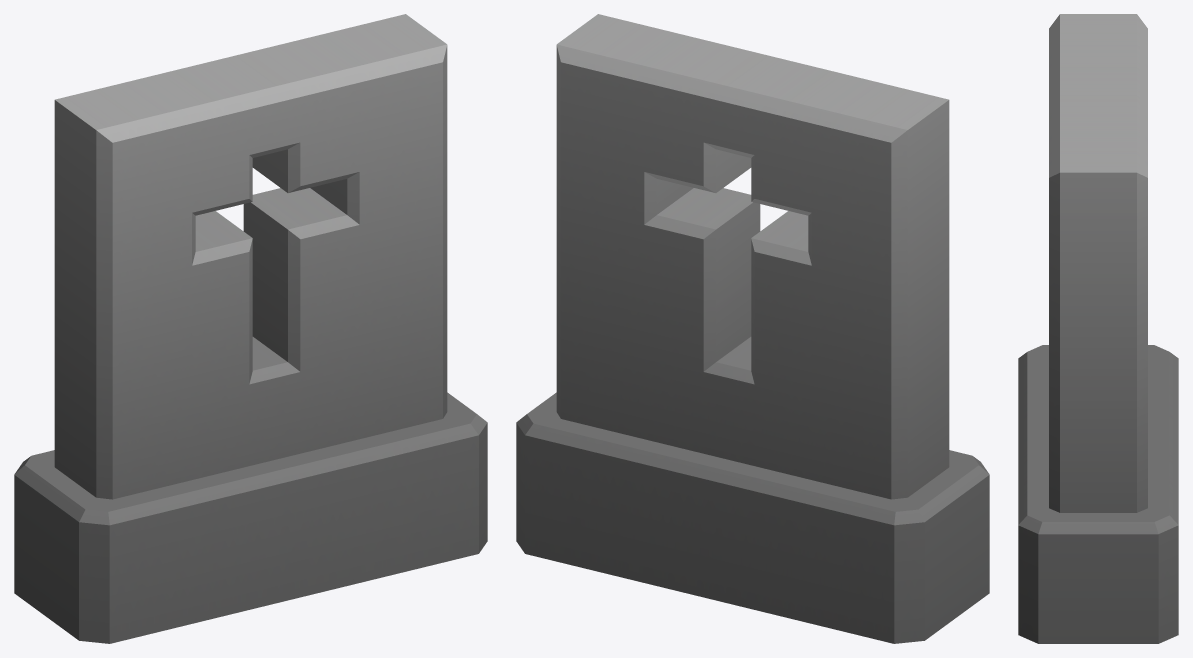
File: Tombstone1.fbx
The picture shows the model from 3 angles, left to right: view 1: azimuth 30°, elevation 25°; view 2: azimuth 150°, elevation 25°; view 3: azimuth 270°, elevation 25°; orthographic projection. The views are drawn at different scales.
Parts seen in each view (by area): view 1: Tombstone1; view 2: Tombstone1; view 3: Tombstone1.
Boxes of the visible parts, bbox=[...] form: Tombstone1: bbox=[14, 14, 487, 643]; Tombstone1: bbox=[516, 14, 989, 643]; Tombstone1: bbox=[1018, 14, 1178, 643].
Size of the model in its own units: 1.16 by 1.35 by 0.4277.
1 material, 1 textured.
